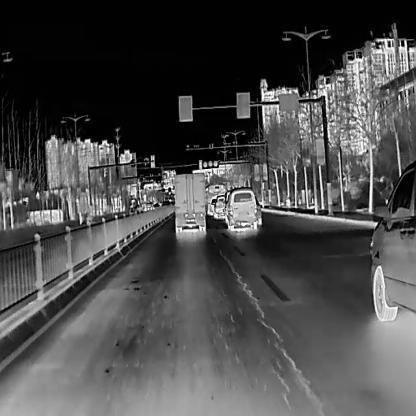car: (370, 157, 415, 322), (172, 172, 205, 233), (226, 186, 257, 229), (206, 183, 226, 215), (212, 194, 227, 220), (159, 199, 171, 212), (208, 197, 216, 216)
